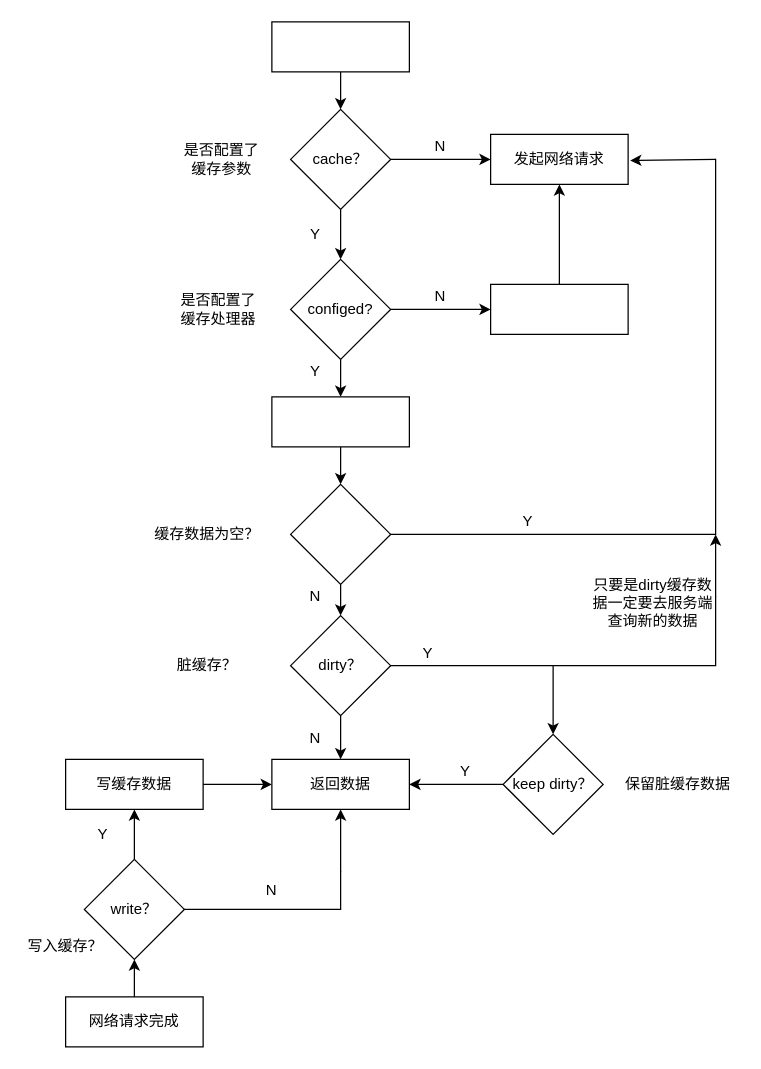
Some shapes in this 761 by 1069 pixel diagram are drawn without their labels. Each missing label, with the centre of its shape:
empty？: the point at 340,533
发起请求: the point at 340,46
查询缓存: the point at 340,421
自动配置缓存: the point at 558,308
